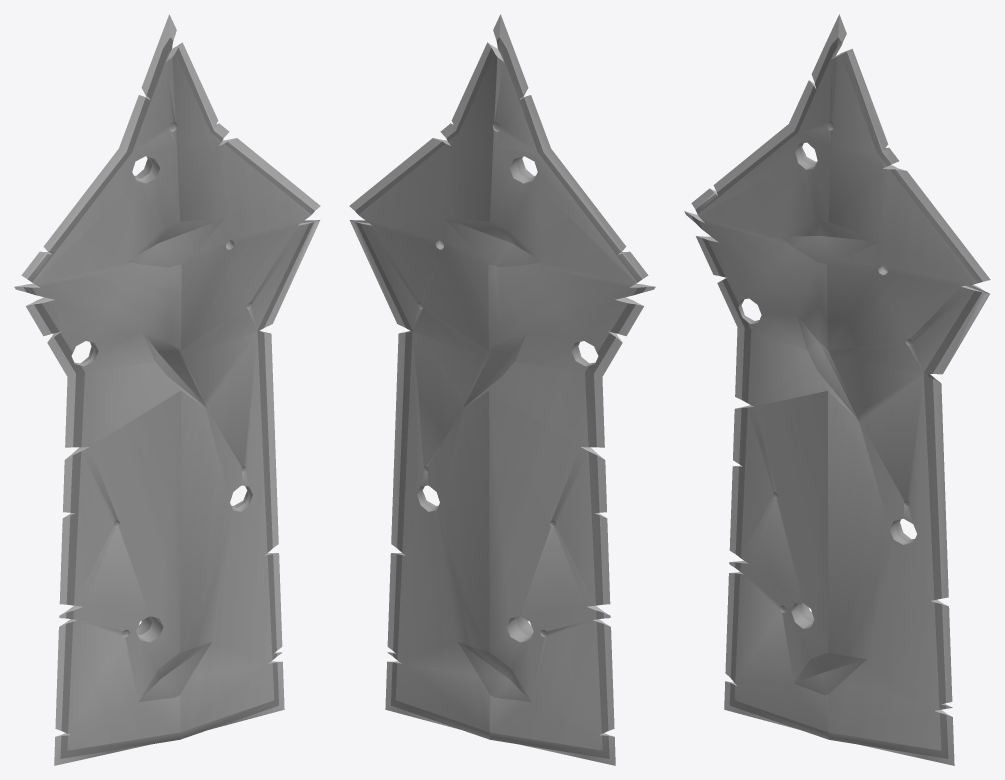
Rendered from stone_blade_bubbles_047.glb.
3 renders of one model, left to right at view 1: azimuth 30°, elevation 25°; view 2: azimuth 150°, elevation 25°; view 3: azimuth 330°, elevation 25°, orthographic.
Visible parts, largest first — view 1: stone_blade_bubbles.047; view 2: stone_blade_bubbles.047; view 3: stone_blade_bubbles.047.
Boxes of the visible parts, x1,y1,x2,y2 form: stone_blade_bubbles.047: (14, 14, 320, 765); stone_blade_bubbles.047: (349, 14, 655, 765); stone_blade_bubbles.047: (684, 14, 990, 765).
Size of the model in its own units: 5.19 by 11.76 by 0.723.
Materials: 1 (1 with a texture image).
